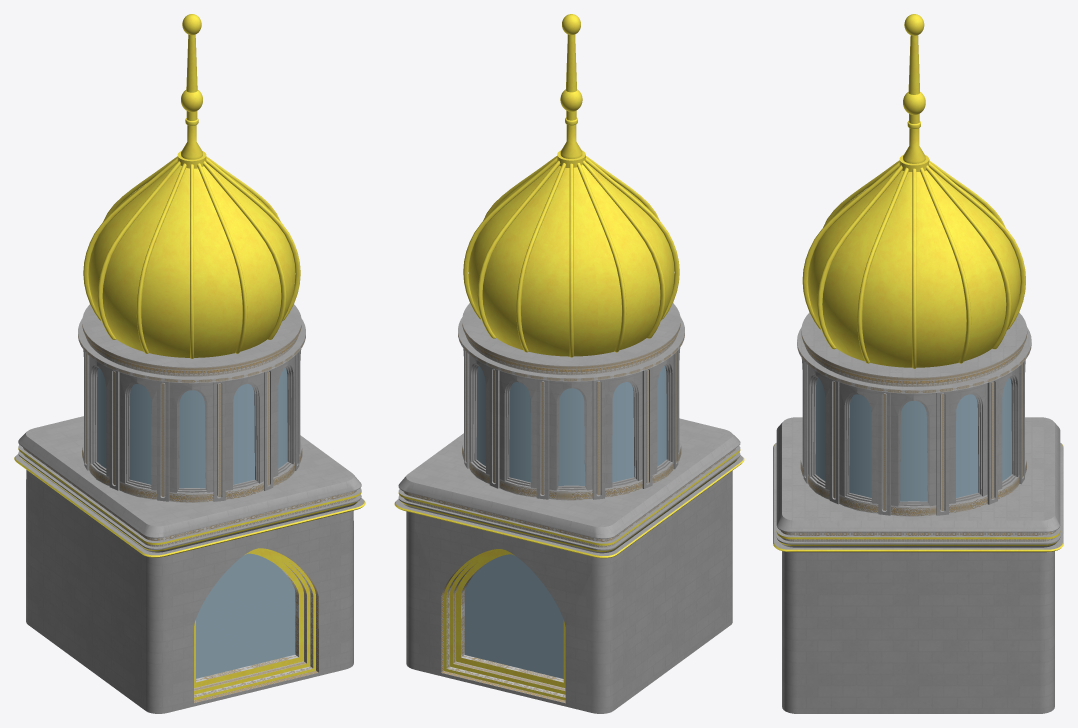
File: SM_building_02.glb
The picture shows the model from 3 angles, left to right: view 1: azimuth 30°, elevation 25°; view 2: azimuth 150°, elevation 25°; view 3: azimuth 270°, elevation 25°; orthographic projection. The views are drawn at different scales.
Parts seen in each view (by area): view 1: SM_building_02; view 2: SM_building_02; view 3: SM_building_02.
Boxes of the visible parts, x1,y1,x2,y2 form: SM_building_02: (14,14,365,713); SM_building_02: (394,14,744,713); SM_building_02: (773,14,1063,713).
Bounding box in the file's own units: 10.44 × 28.32 × 11.53.
Materials: 4 (3 with a texture image).
